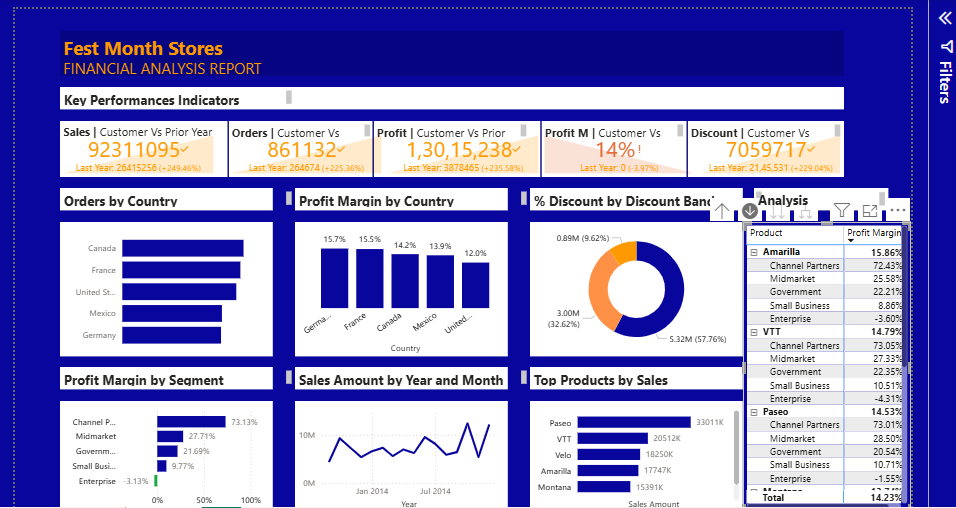

Layout of this report page (visuals, bound fields, positions):
{"tool":"powerbi","page":{"name":"Page 1","canvas":[1280,720],"ordinal":0},"visuals":[{"type":"shape","box":[64,32,1120,64],"z":0},{"type":"shape","box":[64,112,1120,32],"z":1000},{"type":"shape","box":[64,160,1120,80],"z":2000},{"type":"shape","box":[64,304,304,192],"z":3000},{"type":"shape","box":[400,304,304,192],"z":4000},{"type":"shape","box":[736,304,304,192],"z":5000},{"type":"shape","box":[64,560,304,160],"z":6000},{"type":"shape","box":[400,560,304,160],"z":7000},{"type":"shape","box":[736,560,304,160],"z":8000},{"type":"shape","box":[64,256,304,32],"z":9000},{"type":"shape","box":[736,512,304,32],"z":10000},{"type":"shape","box":[400,512,304,32],"z":11000},{"type":"shape","box":[400,256,304,32],"z":12000},{"type":"shape","box":[736,256,304,32],"z":13000},{"type":"shape","box":[64,512,304,32],"z":14000},{"type":"shape","box":[1056,256,192,32],"z":15000},{"type":"textbox","box":[64,32,240,48],"z":16000},{"type":"textbox","box":[64,64,320,48],"z":17000},{"type":"textbox","box":[64,112,336,32],"z":18000},{"type":"kpi","fields":{"Indicator":["Analysis.Sales Amount"],"TrendLine":["Date Table.Year"],"Goal":["Analysis.Sales Amount LY"]},"box":[64,176,224,64],"z":19000},{"type":"textbox","box":[64,160,240,32],"z":20000},{"type":"shape","box":[208,160,192,80],"z":21000},{"type":"kpi","fields":{"TrendLine":["Date Table.Year"],"Indicator":["Analysis.Orders"],"Goal":["Analysis.Orders LY"]},"box":[304,176,224,64],"z":22000},{"type":"kpi","fields":{"TrendLine":["Date Table.Year"],"Indicator":["Analysis.Profit"],"Goal":["Analysis.Profit LY"]},"box":[528,176,224,64],"z":23000},{"type":"kpi","fields":{"TrendLine":["Date Table.Year"],"Indicator":["Analysis.Profit Margin"],"Goal":["Analysis.Profit Margin LY"]},"box":[752,176,224,64],"z":24000},{"type":"kpi","fields":{"TrendLine":["Date Table.Year"],"Indicator":["Analysis.Discount Offered"],"Goal":["Analysis.Discount Offered LY"]},"box":[976,176,208,64],"z":25000},{"type":"textbox","box":[304,160,208,32],"z":26000},{"type":"textbox","box":[960,160,224,32],"z":27000},{"type":"textbox","box":[512,160,224,32],"z":28000},{"type":"textbox","box":[752,160,208,32],"z":29000},{"type":"shape","box":[416,160,192,80],"z":30000},{"type":"shape","box":[672,160,160,80],"z":31000},{"type":"shape","box":[864,160,192,80],"z":32000},{"type":"barChart","fields":{"Category":["financials.Country"],"Y":["Analysis.Orders"]},"box":[64,304,304,192],"z":33000},{"type":"textbox","box":[64,256,336,32],"z":34000},{"type":"textbox","box":[400,256,336,32],"z":35000},{"type":"textbox","box":[736,256,336,32],"z":36000},{"type":"textbox","box":[64,512,336,32],"z":37000},{"type":"textbox","box":[400,512,336,32],"z":38000},{"type":"textbox","box":[736,512,336,32],"z":39000},{"type":"clusteredColumnChart","fields":{"Y":["Analysis.Profit Margin"],"Category":["financials.Country"]},"box":[400,304,304,192],"z":39001},{"type":"donutChart","fields":{"Category":["financials.Discount Band"],"Y":["Analysis.Discount Offered"]},"box":[736,304,304,192],"z":39002},{"type":"barChart","fields":{"Category":["financials.Segment"],"Y":["Analysis.Profit Margin"]},"box":[64,560,304,160],"z":39003},{"type":"lineChart","fields":{"Category":["Date Table.Date.Variation.Date Hierarchy.Year","Date Table.Date.Variation.Date Hierarchy.Month"],"Y":["Analysis.Sales Amount"]},"box":[400,560,304,160],"z":39004},{"type":"barChart","fields":{"Y":["Analysis.Sales Amount"],"Category":["financials.Product"]},"box":[736,560,304,160],"z":39005},{"type":"pivotTable","fields":{"Rows":["financials.Product","financials.Segment"],"Values":["Analysis.Profit Margin"]},"box":[1040,304,240,416],"z":39006},{"type":"textbox","box":[1056,256,192,32],"z":39007}]}

Visuals, with their boxes in screenshot pixels (x1, y1, x2, y2):
shape: <bbox>59, 30, 839, 74</bbox>
shape: <bbox>59, 85, 839, 108</bbox>
shape: <bbox>59, 119, 839, 174</bbox>
shape: <bbox>59, 219, 271, 353</bbox>
shape: <bbox>293, 219, 505, 353</bbox>
shape: <bbox>527, 219, 738, 353</bbox>
shape: <bbox>59, 397, 271, 507</bbox>
shape: <bbox>293, 397, 505, 507</bbox>
shape: <bbox>527, 397, 738, 507</bbox>
shape: <bbox>59, 186, 271, 208</bbox>
shape: <bbox>527, 364, 738, 386</bbox>
shape: <bbox>293, 364, 505, 386</bbox>
shape: <bbox>293, 186, 505, 208</bbox>
shape: <bbox>527, 186, 738, 208</bbox>
shape: <bbox>59, 364, 271, 386</bbox>
shape: <bbox>750, 186, 883, 208</bbox>
textbox: <bbox>59, 30, 226, 63</bbox>
textbox: <bbox>59, 52, 282, 85</bbox>
textbox: <bbox>59, 85, 293, 108</bbox>
kpi - Analysis.Sales Amount x Date Table.Year: <bbox>59, 130, 215, 174</bbox>
textbox: <bbox>59, 119, 226, 141</bbox>
shape: <bbox>160, 119, 293, 174</bbox>
kpi - Date Table.Year x Analysis.Orders: <bbox>226, 130, 382, 174</bbox>
kpi - Date Table.Year x Analysis.Profit: <bbox>382, 130, 538, 174</bbox>
kpi - Date Table.Year x Analysis.Profit Margin: <bbox>538, 130, 694, 174</bbox>
kpi - Date Table.Year x Analysis.Discount Offered: <bbox>694, 130, 839, 174</bbox>
textbox: <bbox>226, 119, 371, 141</bbox>
textbox: <bbox>683, 119, 839, 141</bbox>
textbox: <bbox>371, 119, 527, 141</bbox>
textbox: <bbox>538, 119, 683, 141</bbox>
shape: <bbox>304, 119, 438, 174</bbox>
shape: <bbox>482, 119, 594, 174</bbox>
shape: <bbox>616, 119, 750, 174</bbox>
barChart - financials.Country x Analysis.Orders: <bbox>59, 219, 271, 353</bbox>
textbox: <bbox>59, 186, 293, 208</bbox>
textbox: <bbox>293, 186, 527, 208</bbox>
textbox: <bbox>527, 186, 761, 208</bbox>
textbox: <bbox>59, 364, 293, 386</bbox>
textbox: <bbox>293, 364, 527, 386</bbox>
textbox: <bbox>527, 364, 761, 386</bbox>
clusteredColumnChart - Analysis.Profit Margin x financials.Country: <bbox>293, 219, 505, 353</bbox>
donutChart - financials.Discount Band x Analysis.Discount Offered: <bbox>527, 219, 738, 353</bbox>
barChart - financials.Segment x Analysis.Profit Margin: <bbox>59, 397, 271, 507</bbox>
lineChart - Date Table.Date.Variation.Date Hierarchy.Year x Date Table.Date.Variation.Date Hierarchy.Month: <bbox>293, 397, 505, 507</bbox>
barChart - Analysis.Sales Amount x financials.Product: <bbox>527, 397, 738, 507</bbox>
pivotTable - financials.Product x financials.Segment: <bbox>738, 219, 905, 507</bbox>
textbox: <bbox>750, 186, 883, 208</bbox>
